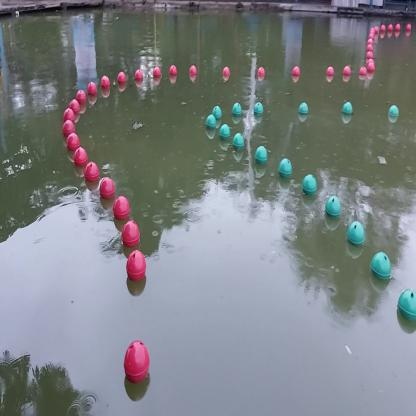green_buoy: (370, 250, 392, 286), (398, 285, 416, 326), (347, 219, 366, 250), (327, 196, 341, 220), (278, 158, 292, 179), (304, 177, 318, 195), (340, 105, 354, 121), (219, 126, 230, 145), (206, 115, 216, 133), (256, 146, 267, 162), (234, 133, 244, 150), (299, 102, 309, 118), (388, 107, 398, 123), (232, 104, 242, 118), (212, 105, 222, 119), (254, 104, 263, 116)
red_buoy: (122, 338, 150, 390), (127, 251, 146, 285), (122, 220, 141, 251), (99, 177, 115, 204), (113, 197, 129, 223), (85, 161, 99, 187), (62, 119, 76, 143), (66, 132, 80, 155), (75, 88, 87, 114), (68, 97, 80, 122), (86, 82, 98, 106), (74, 146, 86, 170), (99, 75, 111, 98), (63, 105, 74, 129), (116, 70, 127, 92), (340, 65, 351, 85), (132, 70, 144, 88), (168, 64, 177, 85), (292, 64, 301, 84), (189, 65, 198, 84), (404, 20, 413, 38), (152, 66, 160, 86), (366, 61, 375, 78), (222, 66, 231, 83), (326, 66, 334, 84), (257, 66, 265, 83), (359, 64, 366, 82), (395, 23, 402, 37), (370, 24, 377, 38), (366, 51, 374, 63), (379, 23, 386, 36), (367, 38, 374, 48), (388, 24, 393, 38), (370, 33, 375, 41)
